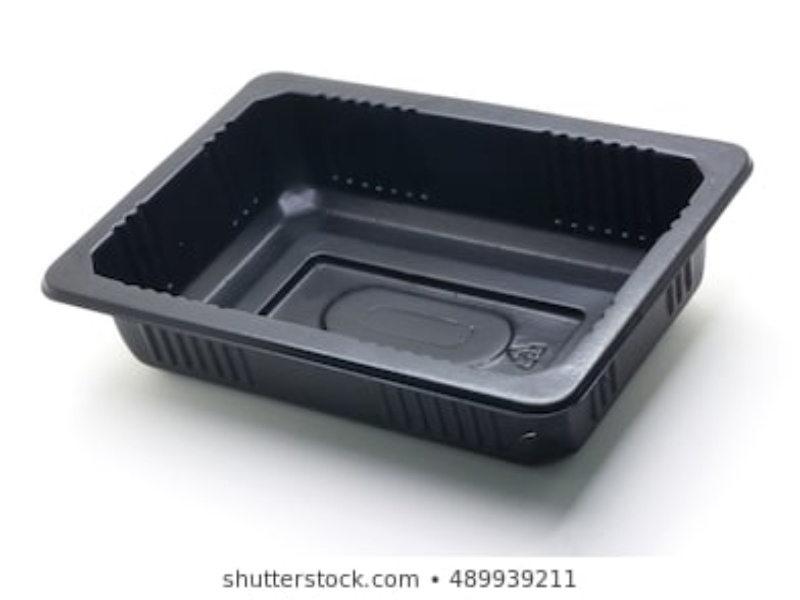plastic-container: (41, 66, 756, 467)
